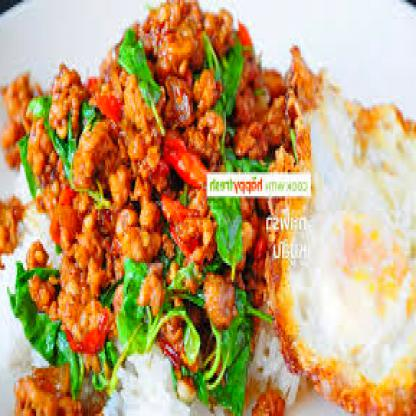Basil Rice: (1, 17, 414, 414)
